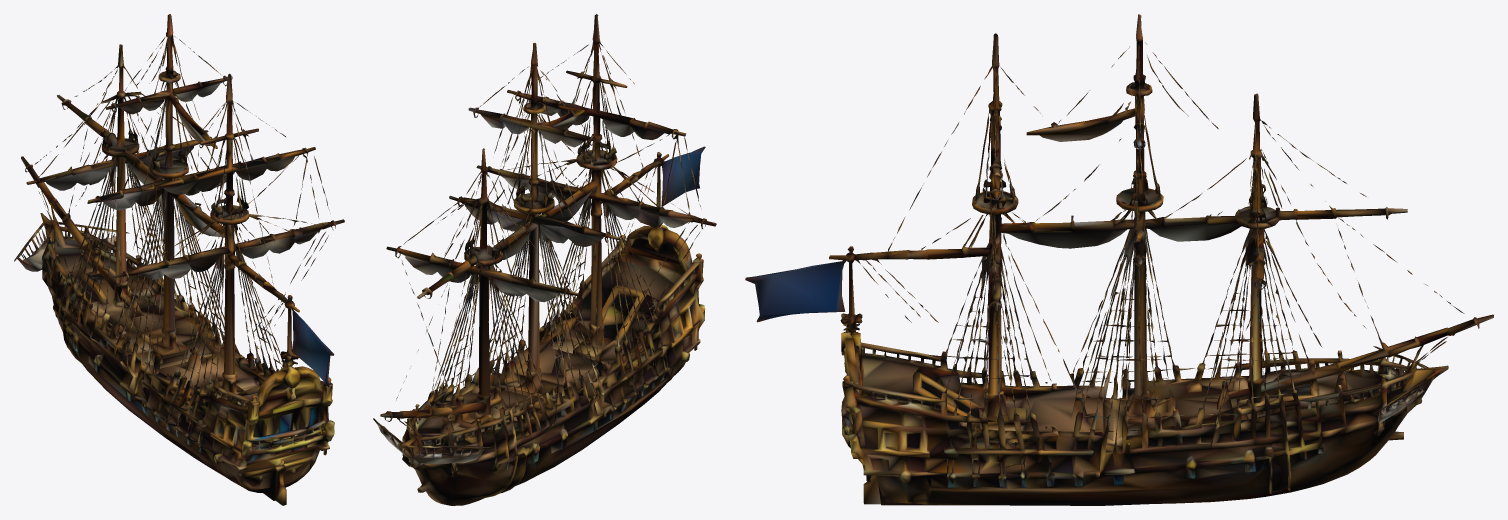
Rendered from ship-furled.glb.
3 views of the same model, side by side, from view 1: azimuth 30°, elevation 25°; view 2: azimuth 150°, elevation 25°; view 3: azimuth 270°, elevation 25° (orthographic). The views are drawn at different scales.
Parts seen in each view (by area): view 1: world; view 2: world; view 3: world.
Part boxes in pixels (x1,y1,x2,y2): world: (14,14,344,505); world: (373,14,716,505); world: (745,14,1493,505).
Size of the model in its own units: 0.8519 by 1.44 by 2.
